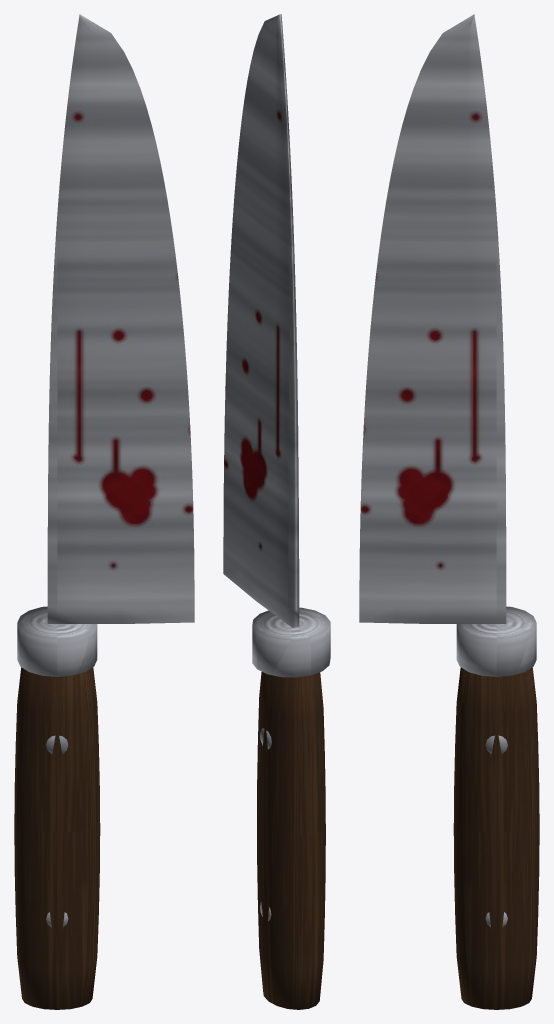
Rendered from 包丁_bocho.glb.
3 views of the same model, side by side, from view 1: azimuth 90°, elevation 25°; view 2: azimuth 210°, elevation 25°; view 3: azimuth 270°, elevation 25° (orthographic).
Visible parts, largest first — view 1: bocho; view 2: bocho; view 3: bocho.
Boxes of the visible parts, <box> form: bocho: <box>14,14,194,1009</box>; bocho: <box>223,14,330,1009</box>; bocho: <box>359,14,539,1009</box>.
Size of the model in its own units: 0.025 by 0.34 by 0.0564.
3 materials, 3 textured.
